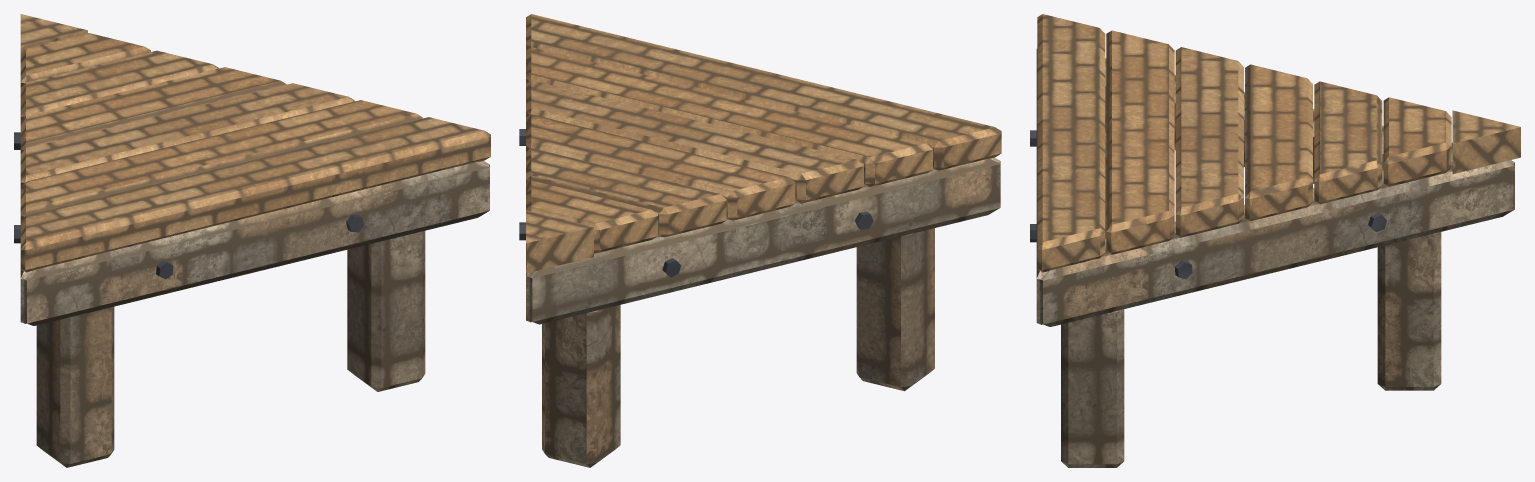
The model's file is ucgen_temel.glb.
3 renders of one model, left to right at view 1: azimuth 30°, elevation 25°; view 2: azimuth 150°, elevation 25°; view 3: azimuth 270°, elevation 25°, orthographic.
Parts seen in each view (by area): view 1: ucgen_temel; view 2: ucgen_temel; view 3: ucgen_temel.
Part boxes in pixels (<box>): ucgen_temel: <box>14,14,490,467</box>; ucgen_temel: <box>519,14,1001,467</box>; ucgen_temel: <box>1030,14,1520,467</box>.
Size of the model in its own units: 2.97 by 1.5 by 2.63.
1 material, 1 textured.
